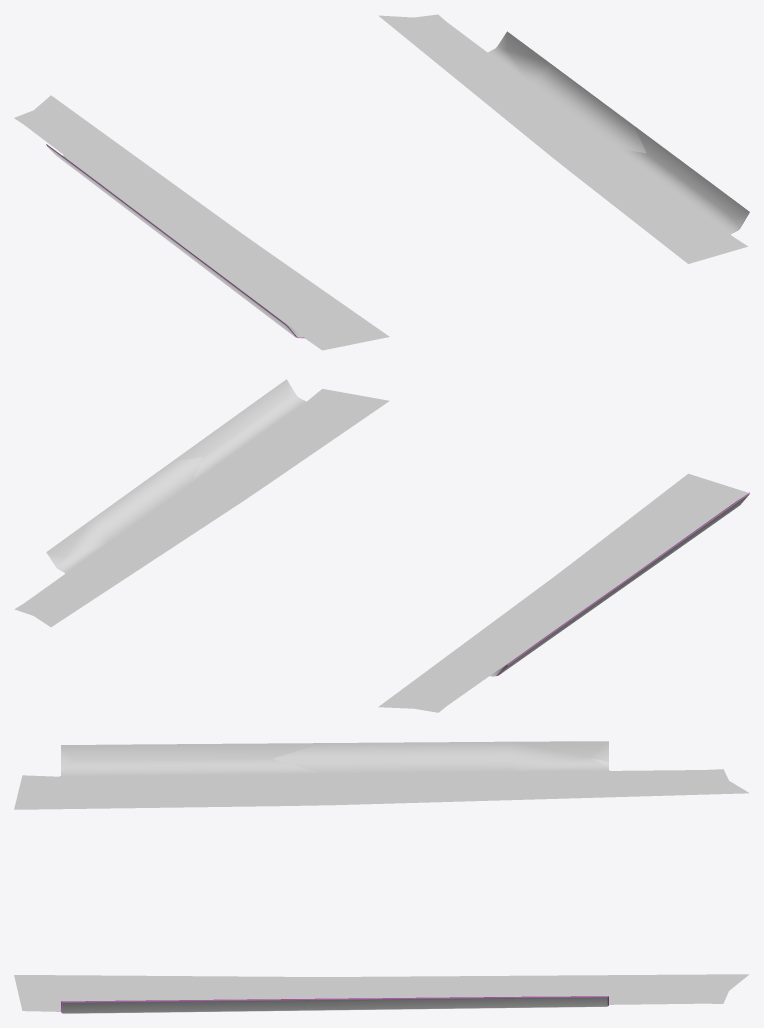
Rendered from Car_Buick_GrandNational_1987_Skirts_SetA.fbx.
3 renders of one model, top to bottom at view 1: azimuth 30°, elevation 25°; view 2: azimuth 150°, elevation 25°; view 3: azimuth 270°, elevation 25°, orthographic. The views are drawn at different scales.
Visible parts, largest first — view 1: Skirts 6; view 2: Skirts 6; view 3: Skirts 6.
Boxes of the visible parts, <box> form: Skirts 6: <box>14,14,749,350</box>; Skirts 6: <box>14,379,749,712</box>; Skirts 6: <box>14,741,749,1013</box>.
Size of the model in its own units: 1.58 by 0.0735 by 1.92.
